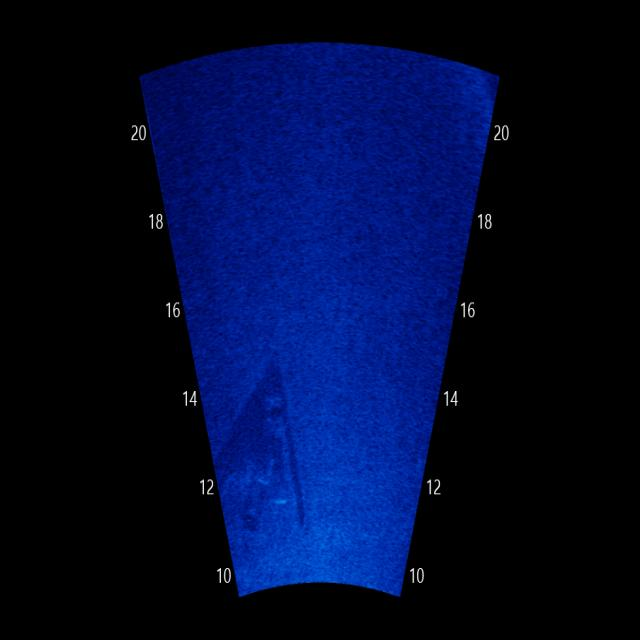triangle: (211, 373, 315, 546)
